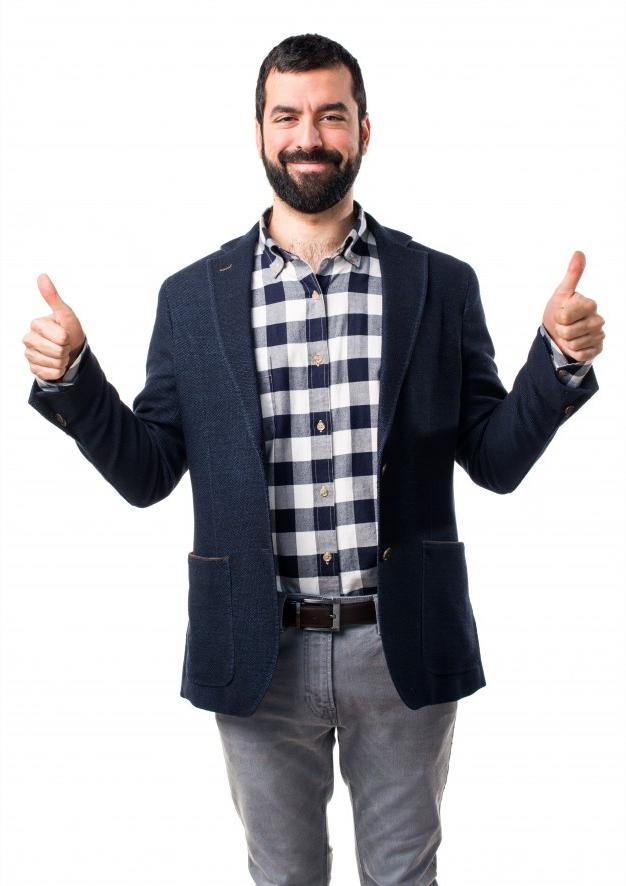thumbsup: (555, 250, 605, 361), (23, 273, 73, 379)
